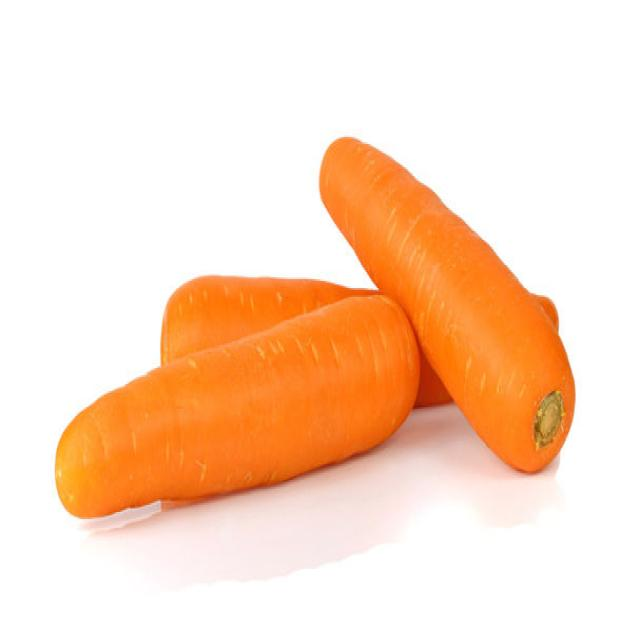Carrot: (317, 133, 575, 473), (54, 290, 422, 519), (160, 272, 452, 407), (412, 292, 558, 407)
